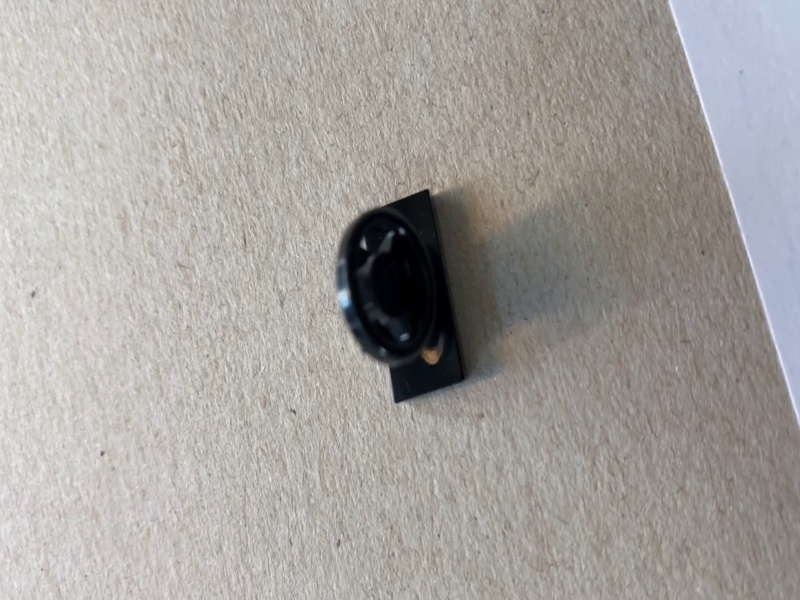steering wheel: (336, 187, 470, 405)
